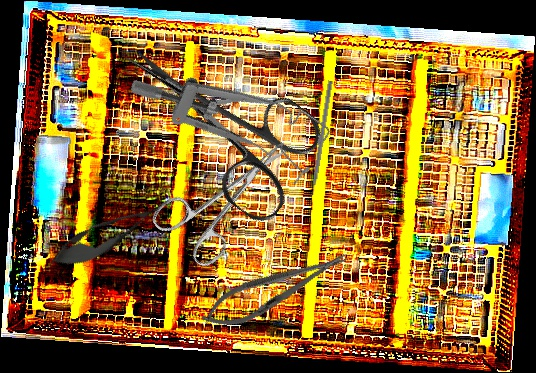Chopper: (303, 79, 333, 202)
Iris Scissors: (92, 6, 336, 229), (147, 117, 313, 277)
Micro Scissor: (43, 186, 179, 279)
Needle Holder: (194, 239, 356, 340)
Speculum: (125, 21, 338, 203)
